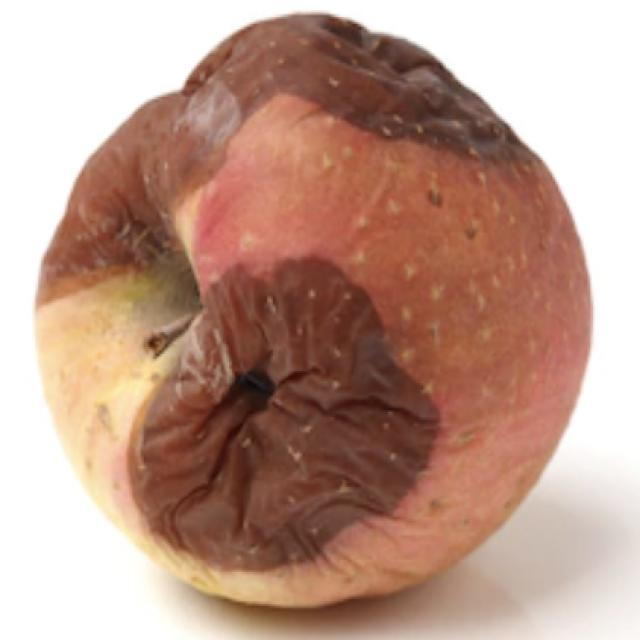Rotten: (35, 10, 588, 632)
